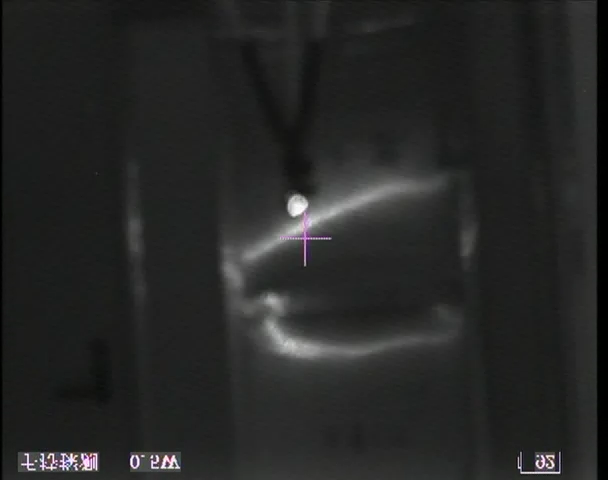my: (284, 191, 310, 218)
